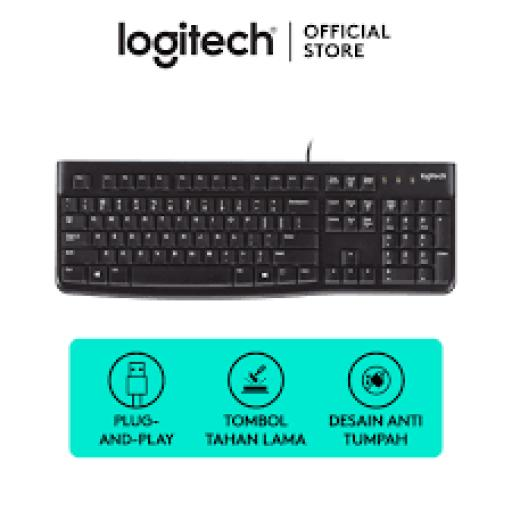KEYBOARD-2: (57, 162, 453, 291)
